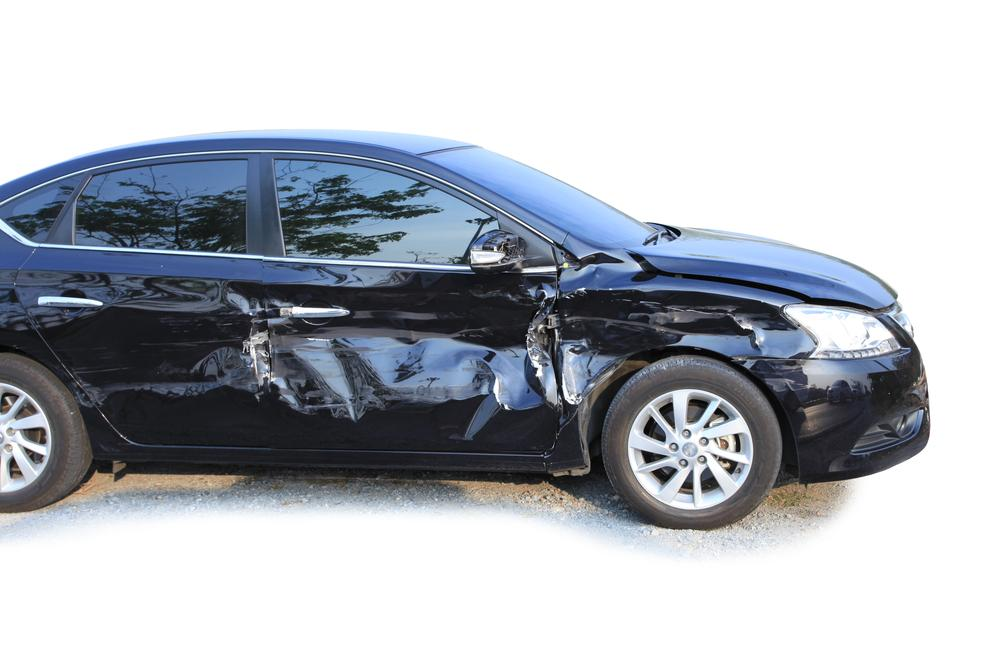dent: (265, 282, 560, 438), (558, 283, 814, 406), (88, 317, 264, 405)
